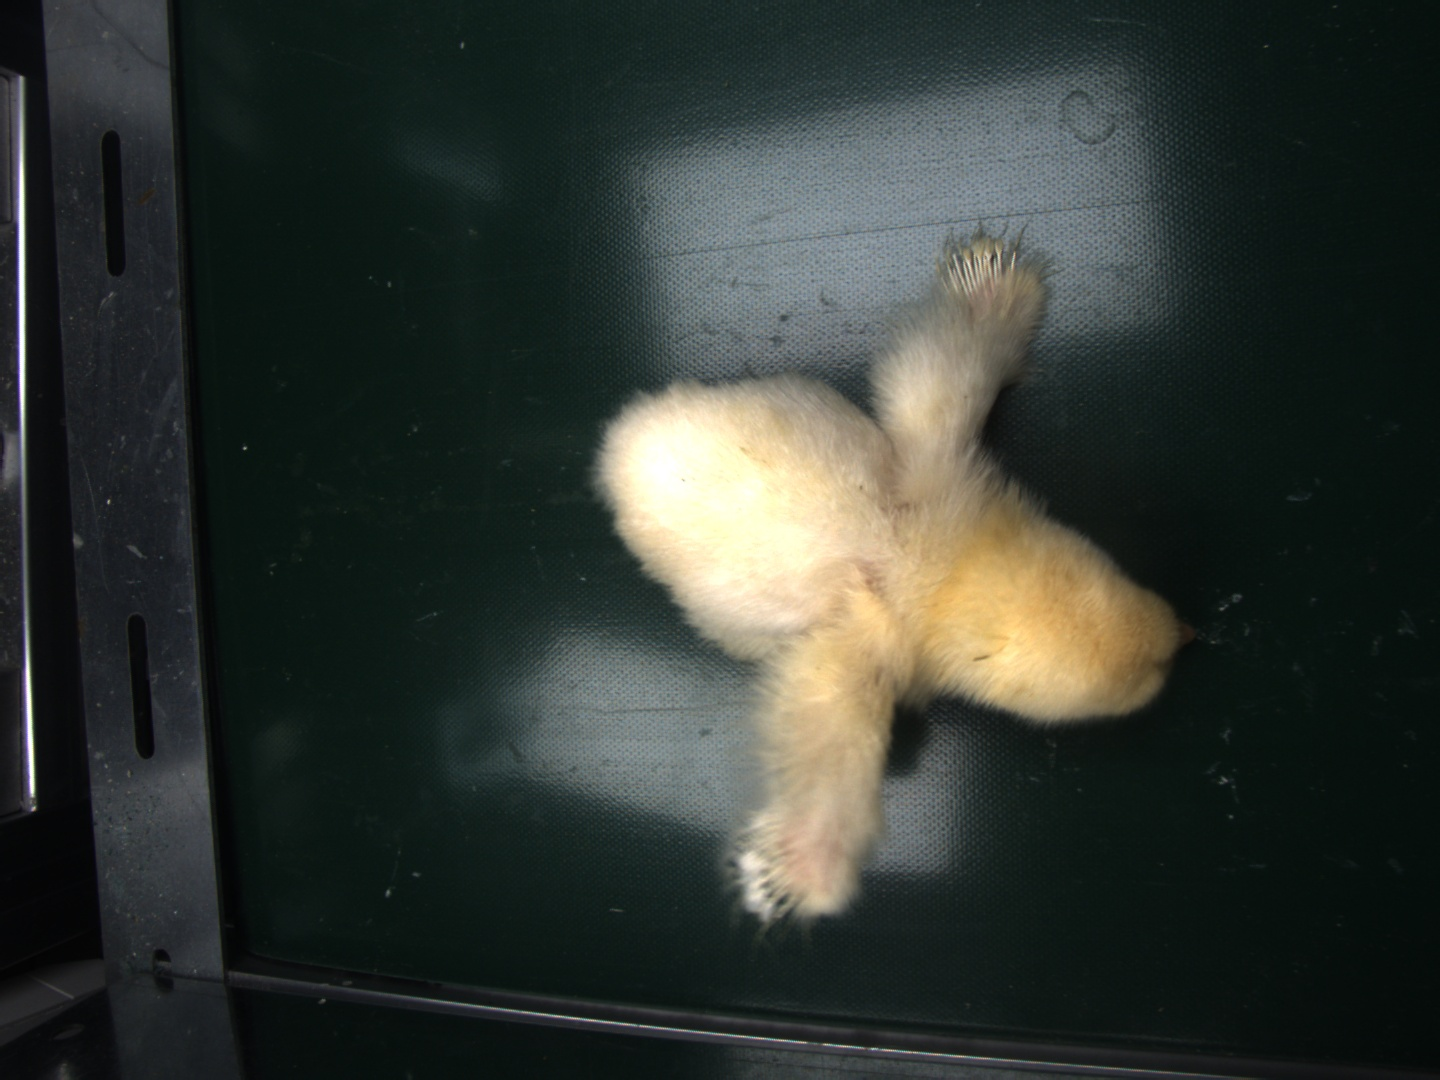male: (939, 248, 1024, 298)
